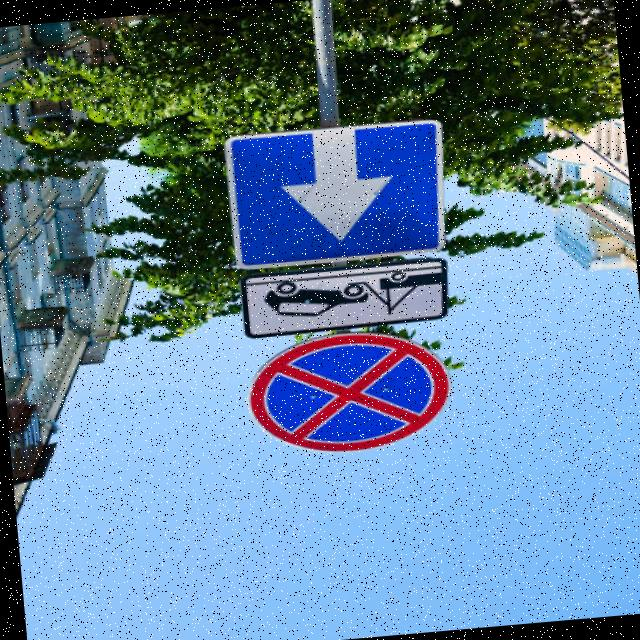no_parking: (234, 319, 463, 464)
